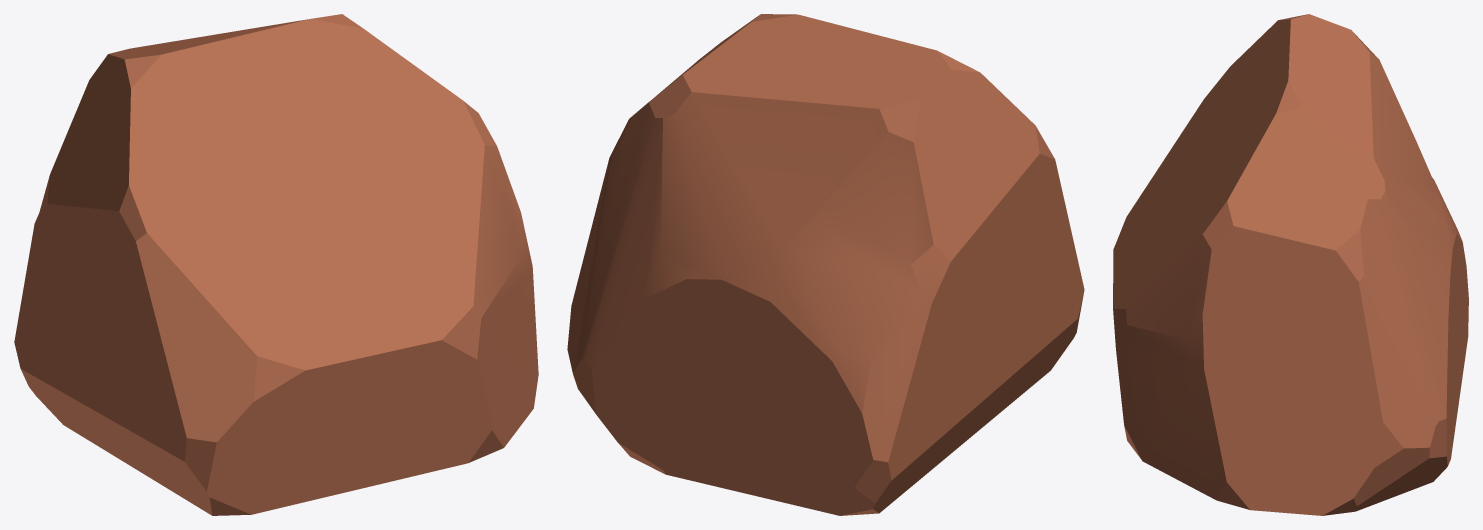
Rendered from Rock_08.fbx.
The picture shows the model from 3 angles, left to right: view 1: azimuth 30°, elevation 25°; view 2: azimuth 150°, elevation 25°; view 3: azimuth 270°, elevation 25°; orthographic projection. The views are drawn at different scales.
Visible parts, largest first — view 1: Rock_08; view 2: Rock_08; view 3: Rock_08.
Boxes of the visible parts, x1=… form: Rock_08: x1=14, y1=14, x2=538, y2=515; Rock_08: x1=567, y1=14, x2=1084, y2=515; Rock_08: x1=1113, y1=14, x2=1468, y2=515.
Size of the model in its own units: 243 by 237 by 209.
